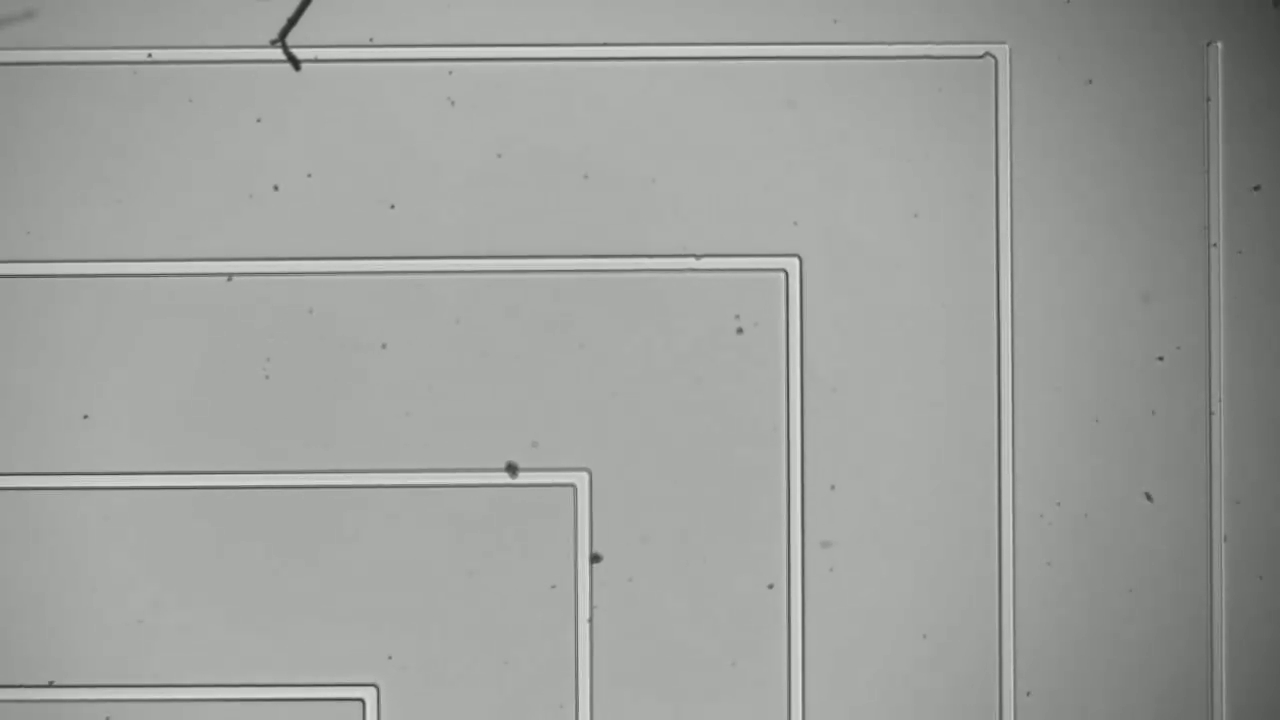edge_bite: (971, 35, 1002, 63)
stains_enbedded: (500, 451, 533, 494)
